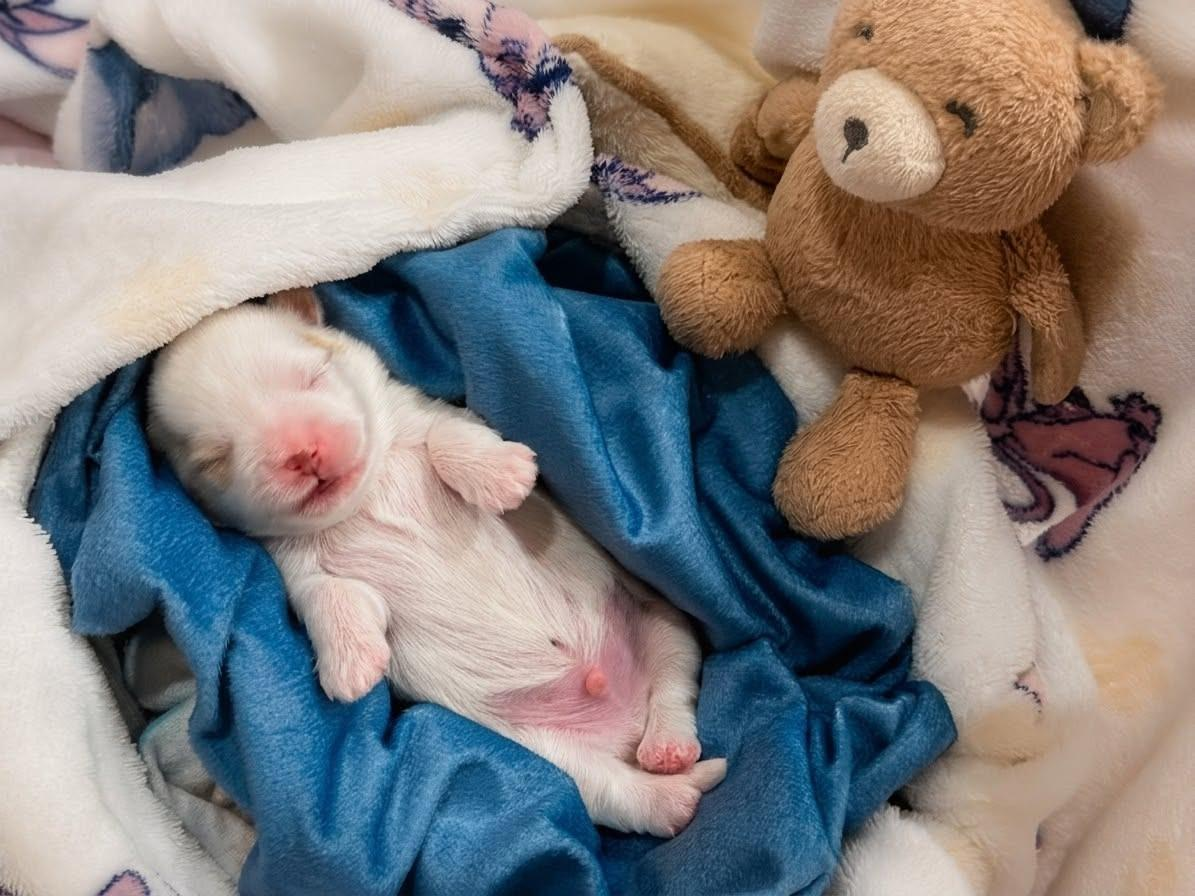non-dog: (650, 0, 1169, 544)
puppy-dog: (140, 292, 733, 839)
